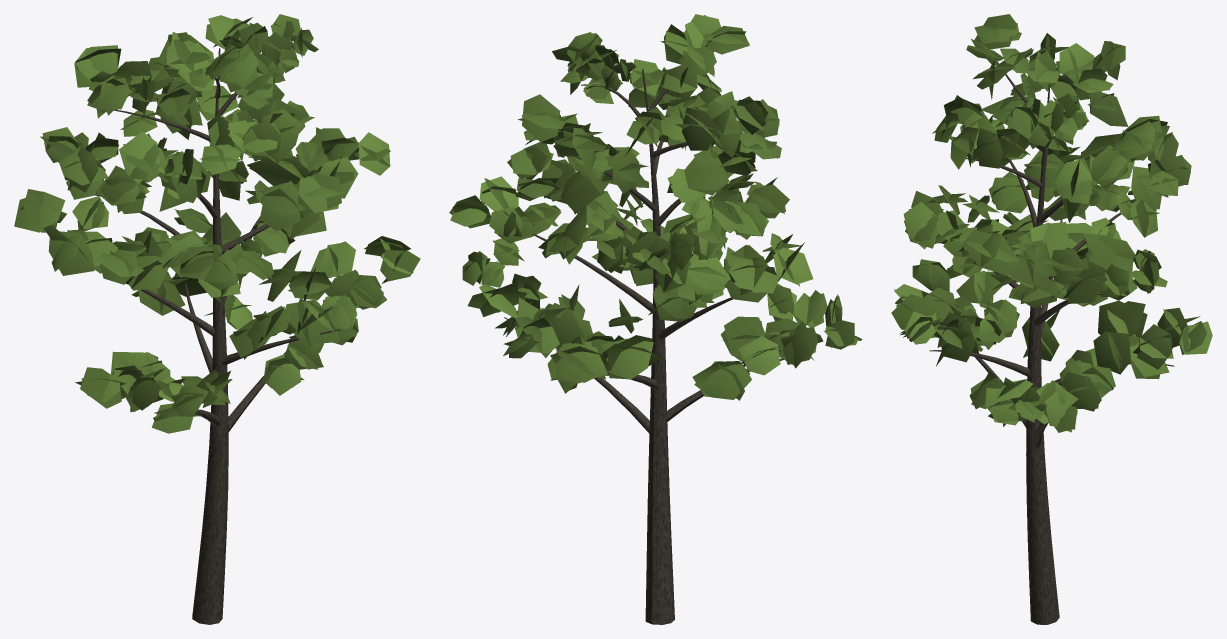
Rendered from broad_01_lod1.glb.
3 renders of one model, left to right at view 1: azimuth 30°, elevation 25°; view 2: azimuth 150°, elevation 25°; view 3: azimuth 270°, elevation 25°, orthographic. The views are drawn at different scales.
Visible parts, largest first — view 1: individual_curved_leaf_sprigs, retained_branches_0; view 2: individual_curved_leaf_sprigs, retained_branches_0; view 3: individual_curved_leaf_sprigs, retained_branches_0.
Part boxes in pixels (x1,y1,x2,y2): individual_curved_leaf_sprigs: (14, 14, 420, 433); retained_branches_0: (95, 48, 339, 624); individual_curved_leaf_sprigs: (449, 14, 862, 400); retained_branches_0: (504, 51, 783, 624); individual_curved_leaf_sprigs: (891, 14, 1212, 432); retained_branches_0: (929, 60, 1174, 624).
Bounding box in the file's own units: 6.84 × 10.73 × 5.39.
Materials: 2 (1 with a texture image).
